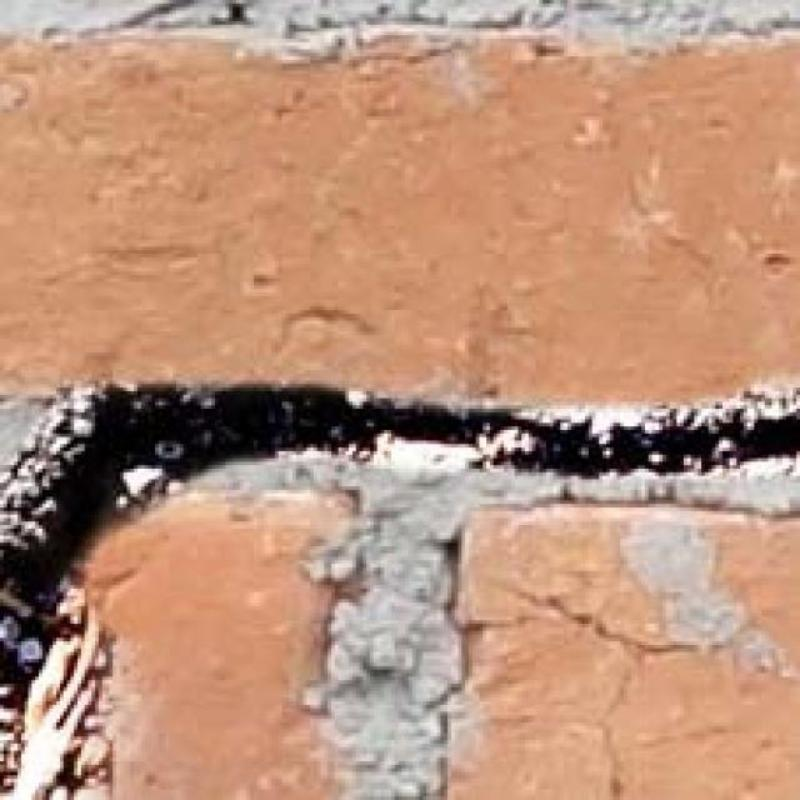pothole: (0, 388, 800, 688)
